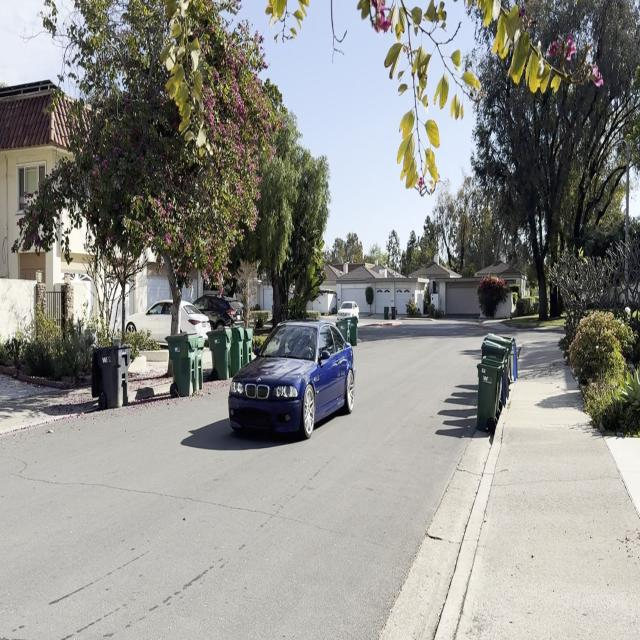Carbeetle: (224, 311, 362, 450)
